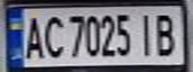0: (81, 11, 100, 58)
2: (100, 11, 118, 58)
5: (115, 10, 136, 57)
7: (63, 11, 84, 58)
A: (21, 11, 45, 61)
B: (151, 10, 181, 57)
C: (39, 11, 66, 60)
I: (136, 10, 157, 57)
